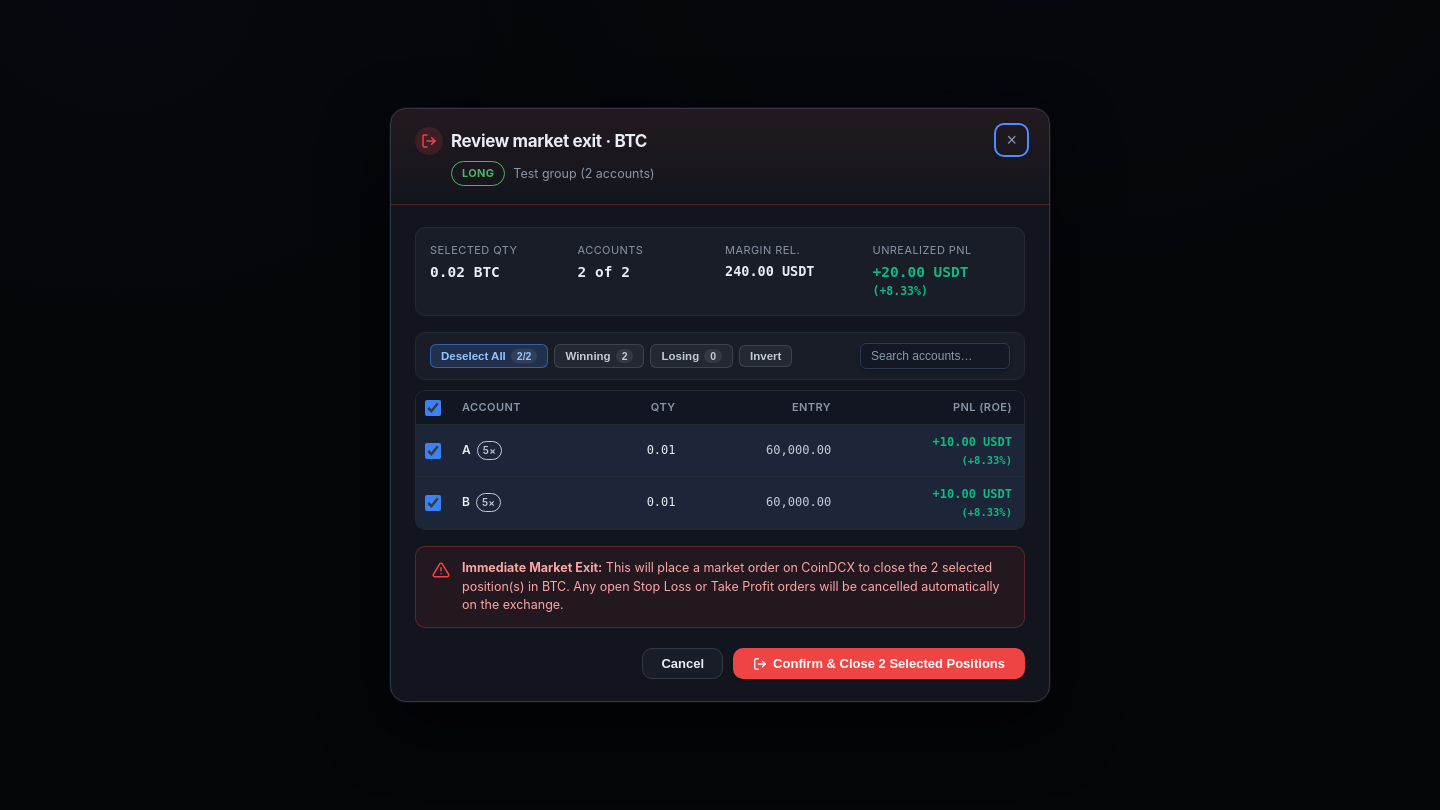
Test: market exit safety › preserves exclusions through live refreshes and leaves newly appearing accounts unselected
Click the checkbox named "Select account B" at point(433, 503), box x1=425 y1=495 x2=441 y2=511
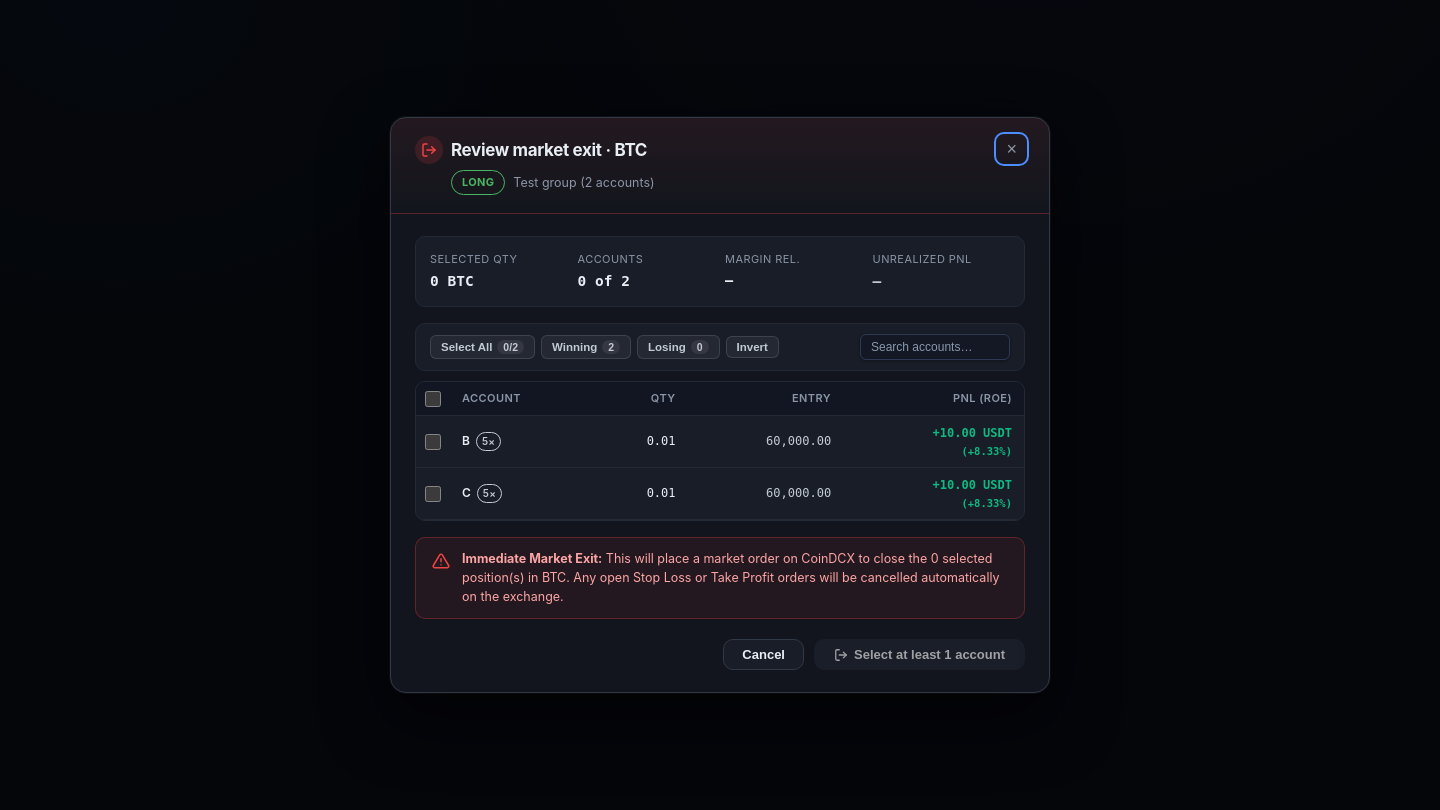
Result: the button "Select at least 1 account" is disabled at x1=814 y1=639 x2=1025 y2=670
